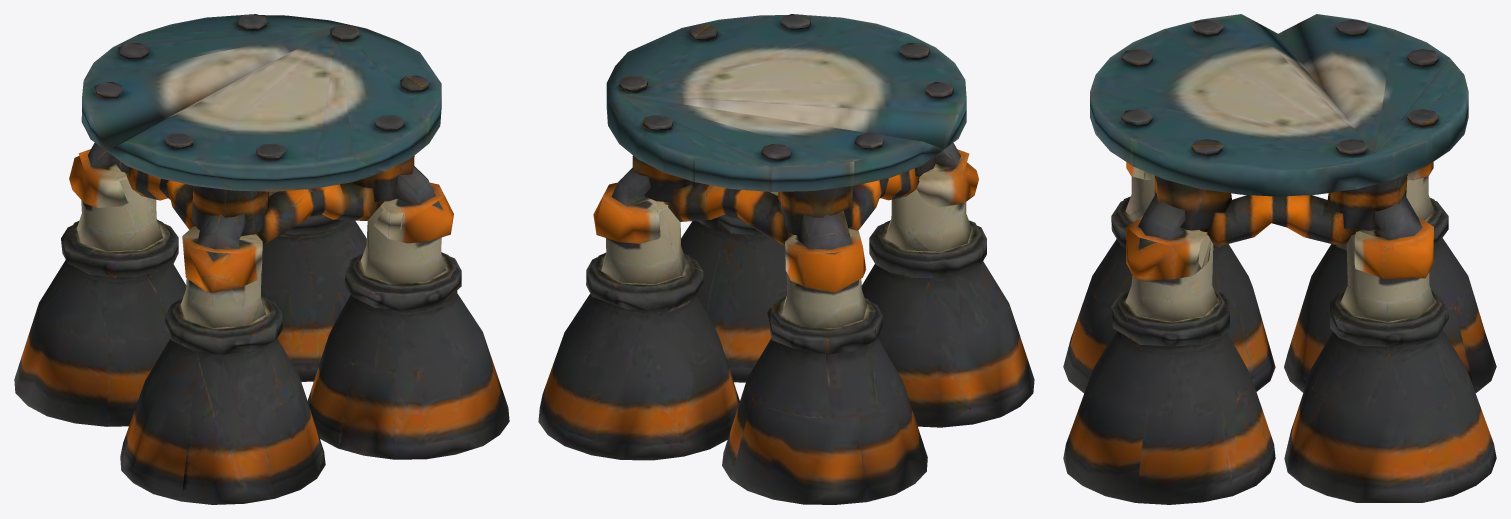
File: rocket_engine-lod0.2b9871da3c02.glb
The picture shows the model from 3 angles, left to right: view 1: azimuth 30°, elevation 25°; view 2: azimuth 150°, elevation 25°; view 3: azimuth 270°, elevation 25°; orthographic projection. The views are drawn at different scales.
Visible parts, largest first — view 1: geometry_0; view 2: geometry_0; view 3: geometry_0.
Part boxes in pixels (x1,y1,x2,y2): geometry_0: (14, 14, 509, 504); geometry_0: (538, 14, 1034, 504); geometry_0: (1063, 14, 1496, 504).
Bounding box in the file's own units: 0.9565 × 0.7954 × 0.9536.
Materials: 1 (1 with a texture image).
